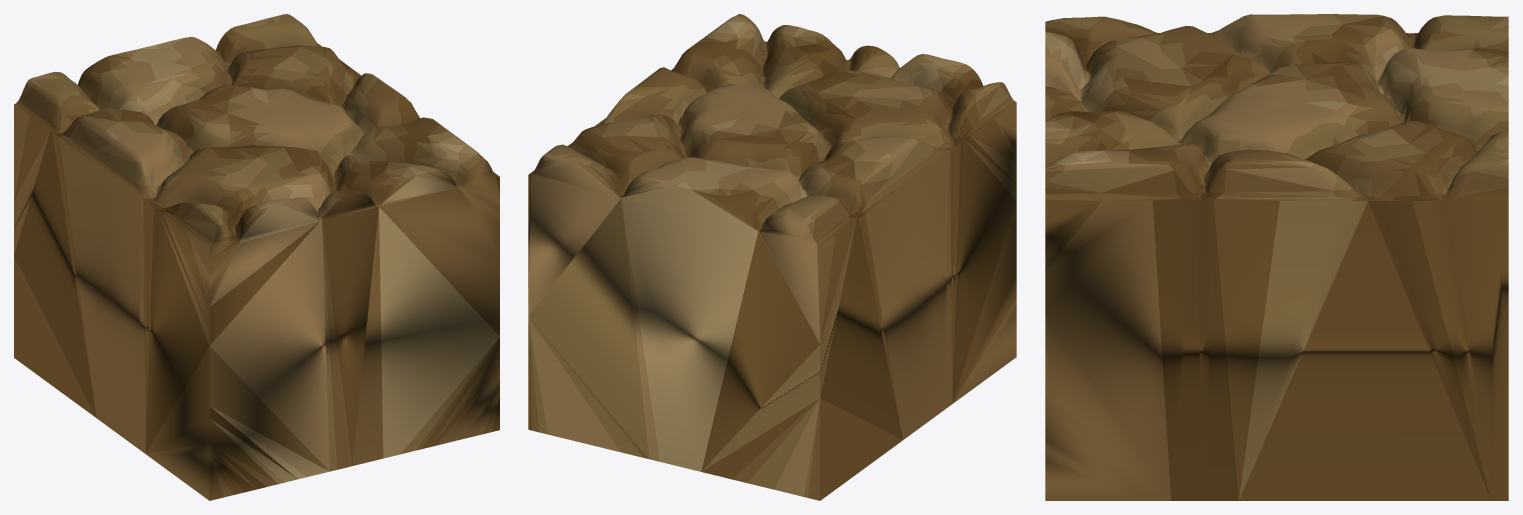
File: ixm_wall_rock_mid.glb
3 views of the same model, side by side, from view 1: azimuth 30°, elevation 25°; view 2: azimuth 150°, elevation 25°; view 3: azimuth 270°, elevation 25° (orthographic). The views are drawn at different scales.
Visible parts, largest first — view 1: ixm_wall_rock_mid; view 2: ixm_wall_rock_mid; view 3: ixm_wall_rock_mid.
Boxes of the visible parts, x1,y1,x2,y2 form: ixm_wall_rock_mid: [14, 14, 499, 500]; ixm_wall_rock_mid: [528, 14, 1016, 500]; ixm_wall_rock_mid: [1045, 14, 1508, 500].
Bounding box in the file's own units: 24 × 22.08 × 28.
